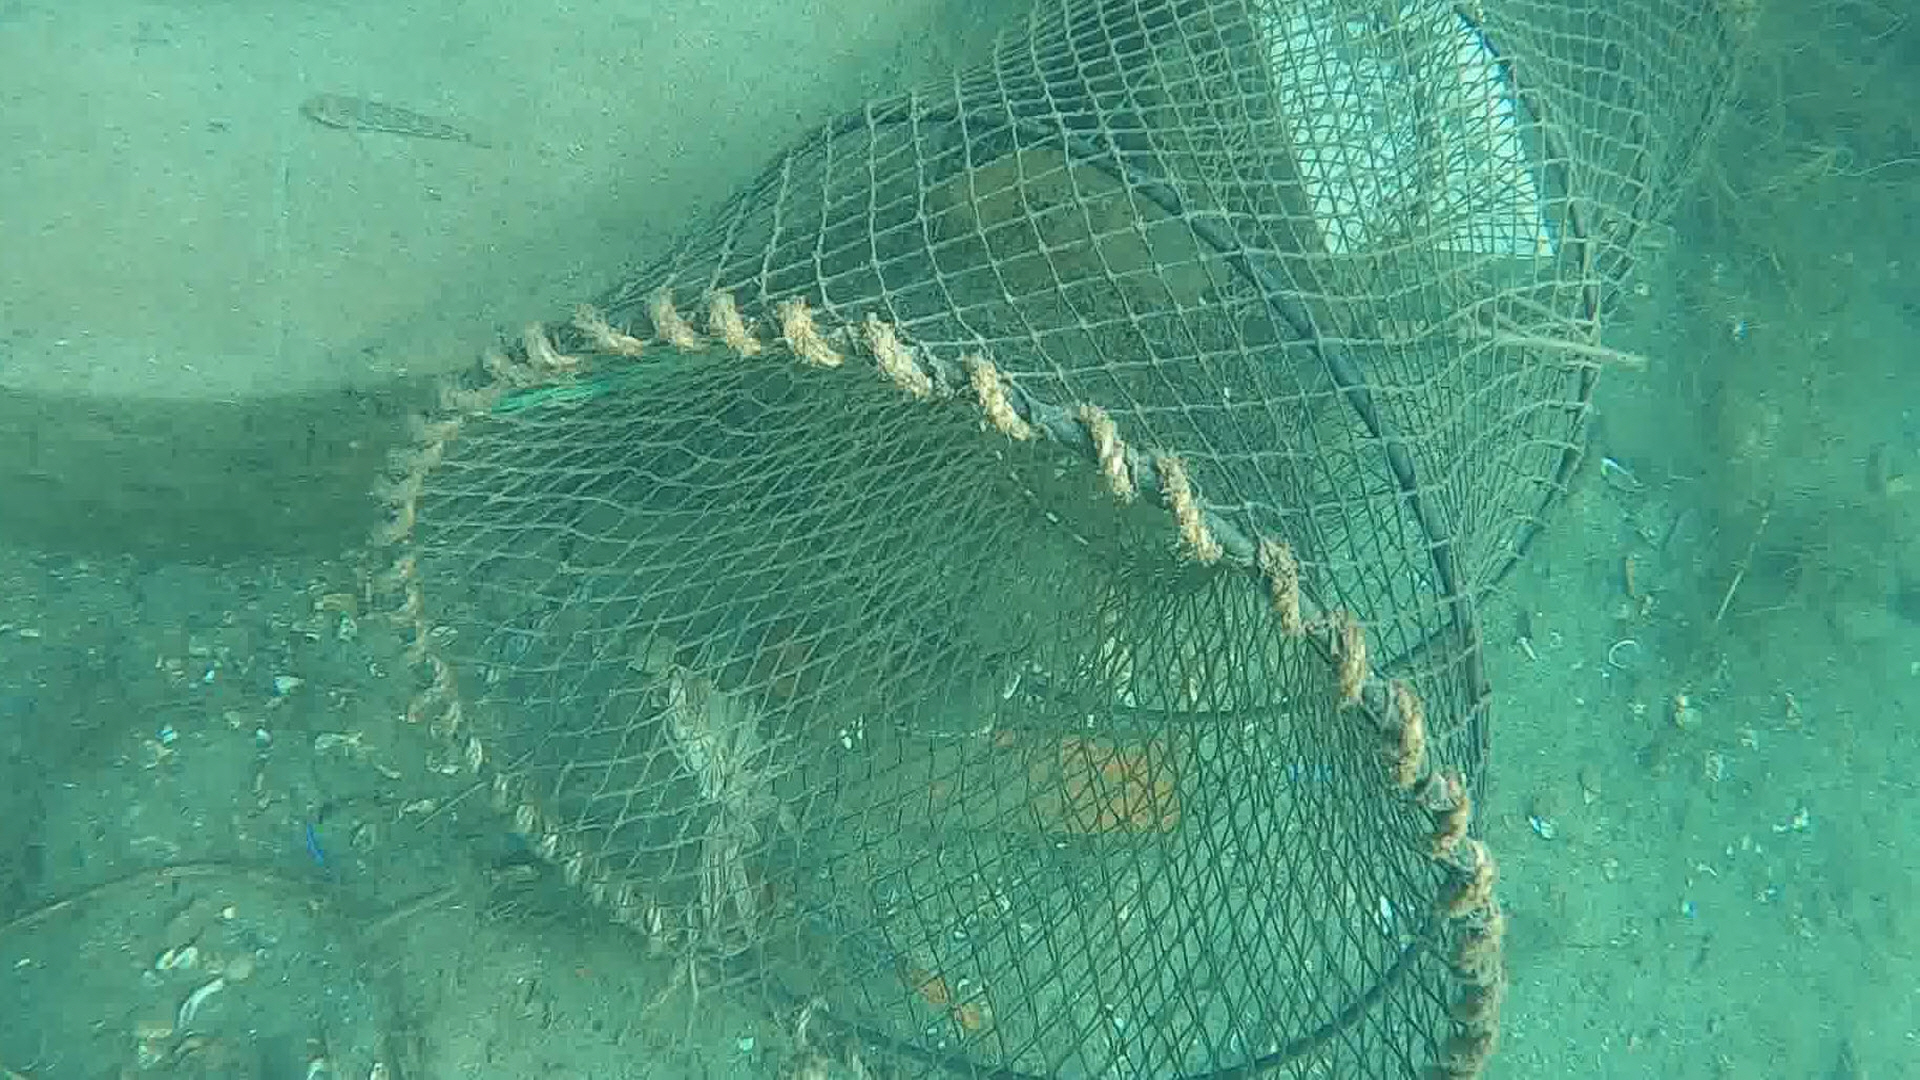spring fish trap: (371, 3, 1762, 1080)
